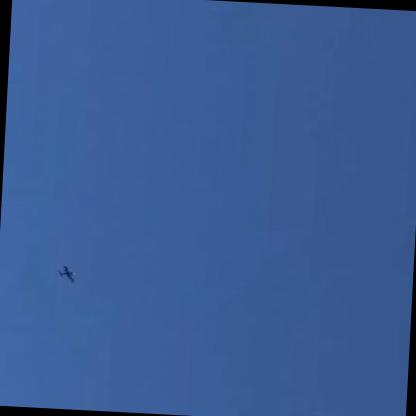plane: (55, 266, 78, 284)
